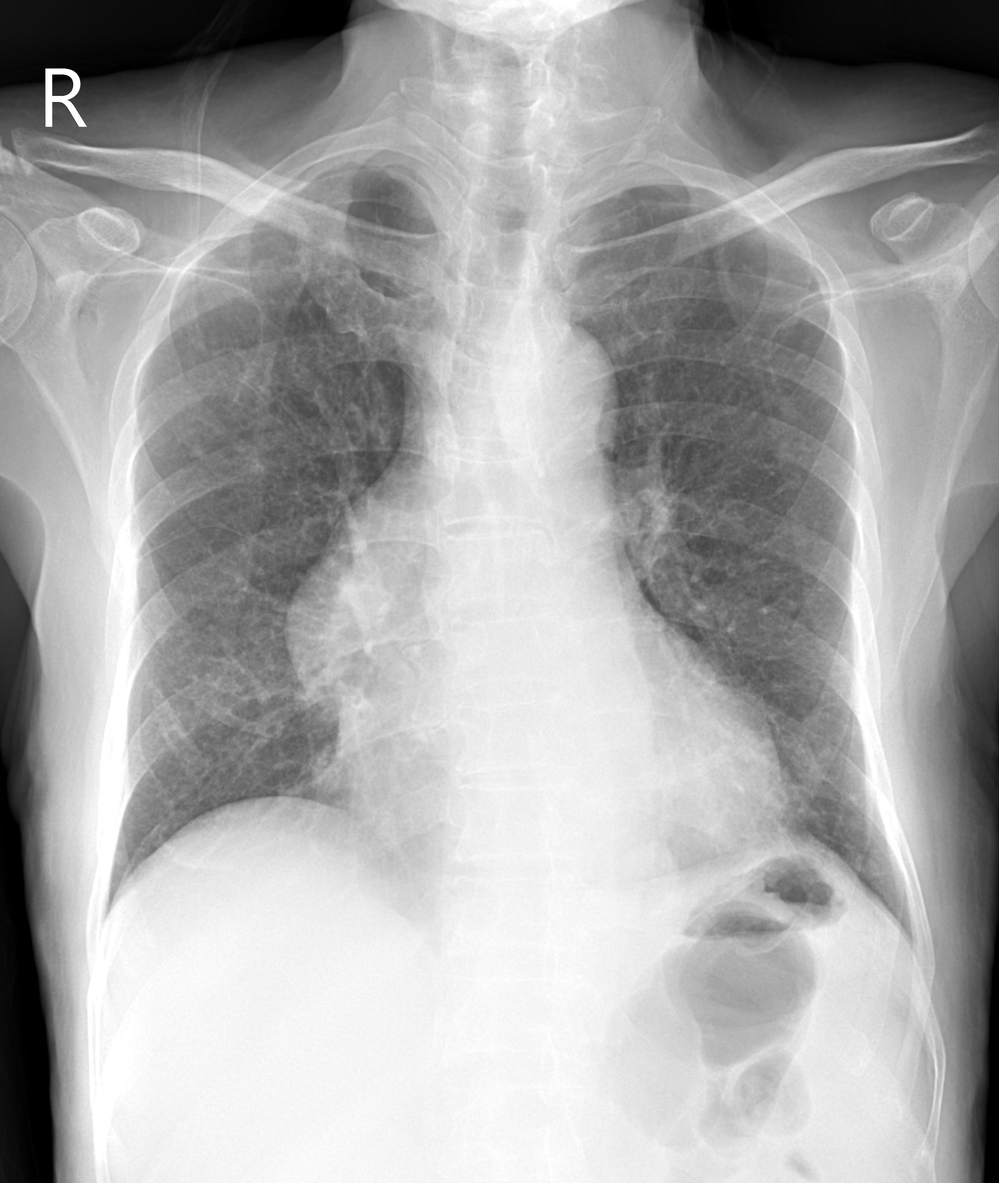Aortic enlargement: (280, 315, 625, 686)
Cardiomegaly: (334, 725, 799, 860)
Pleural thickening: (248, 131, 448, 192)
